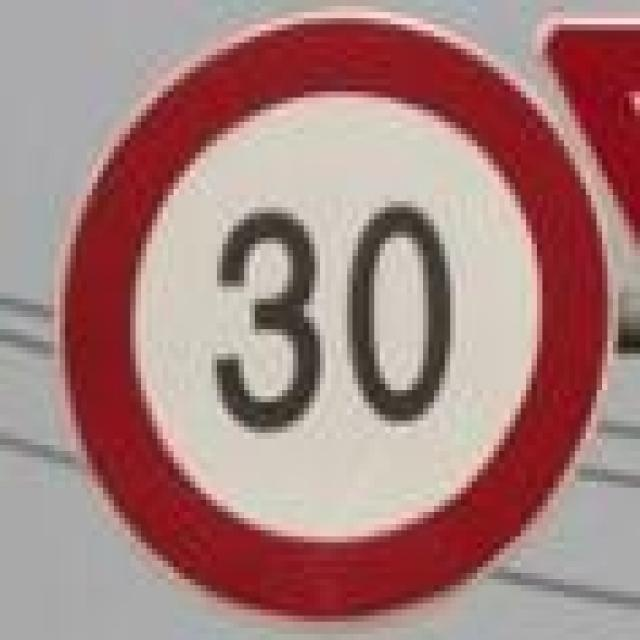traffic_sign: (55, 12, 608, 616)
